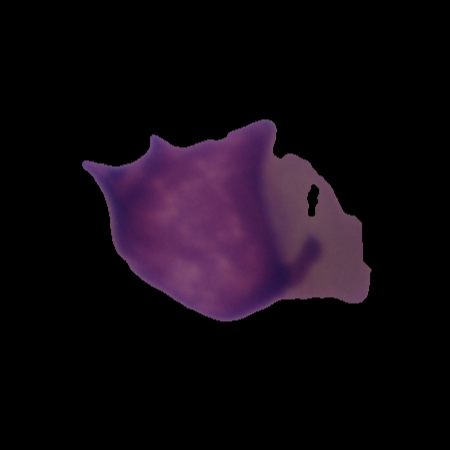HEM: (79, 116, 376, 326)
